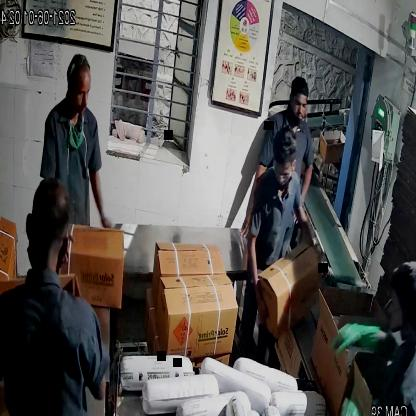goggles: (268, 162, 296, 184)
no_goggles: (64, 82, 94, 104), (287, 93, 312, 116)
